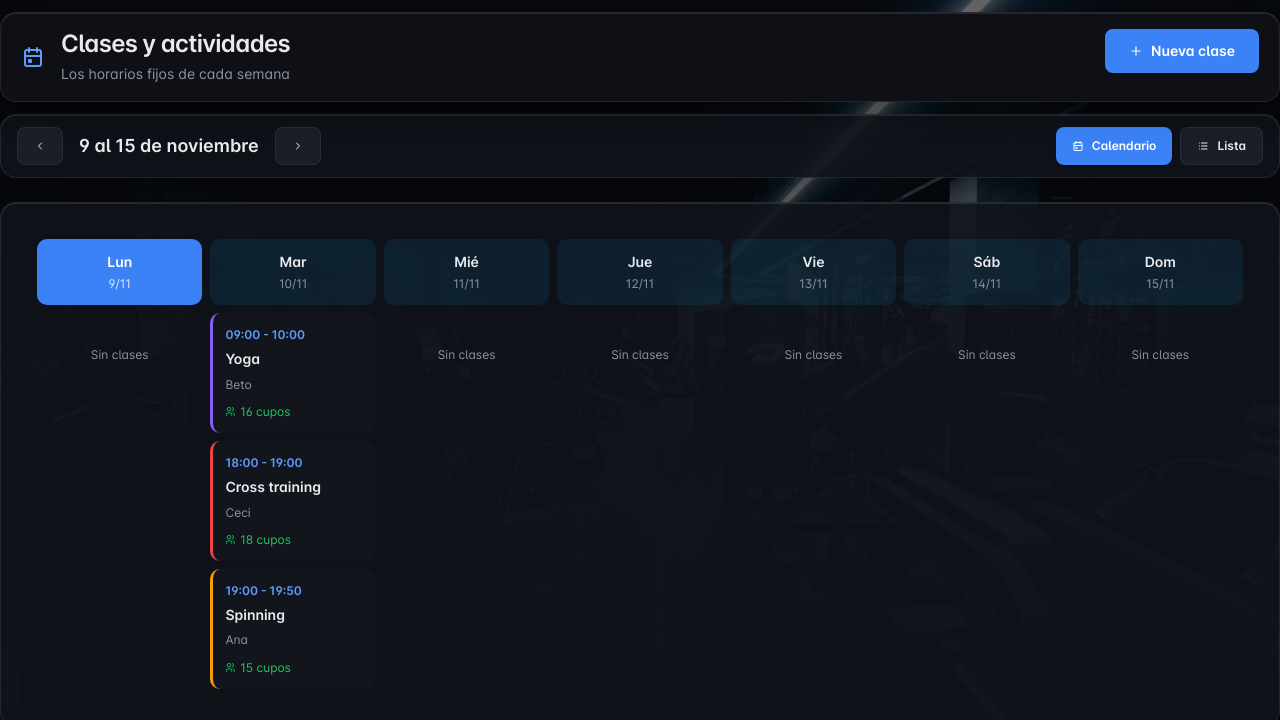
Test: Clases › cada clase del calendario es un botón: se abre también con el teclado
This screenshot has width=1280, height=720.
Click the button with class "class-card" that starts with "Yoga" at point(293, 373), box [210,313,376,433]
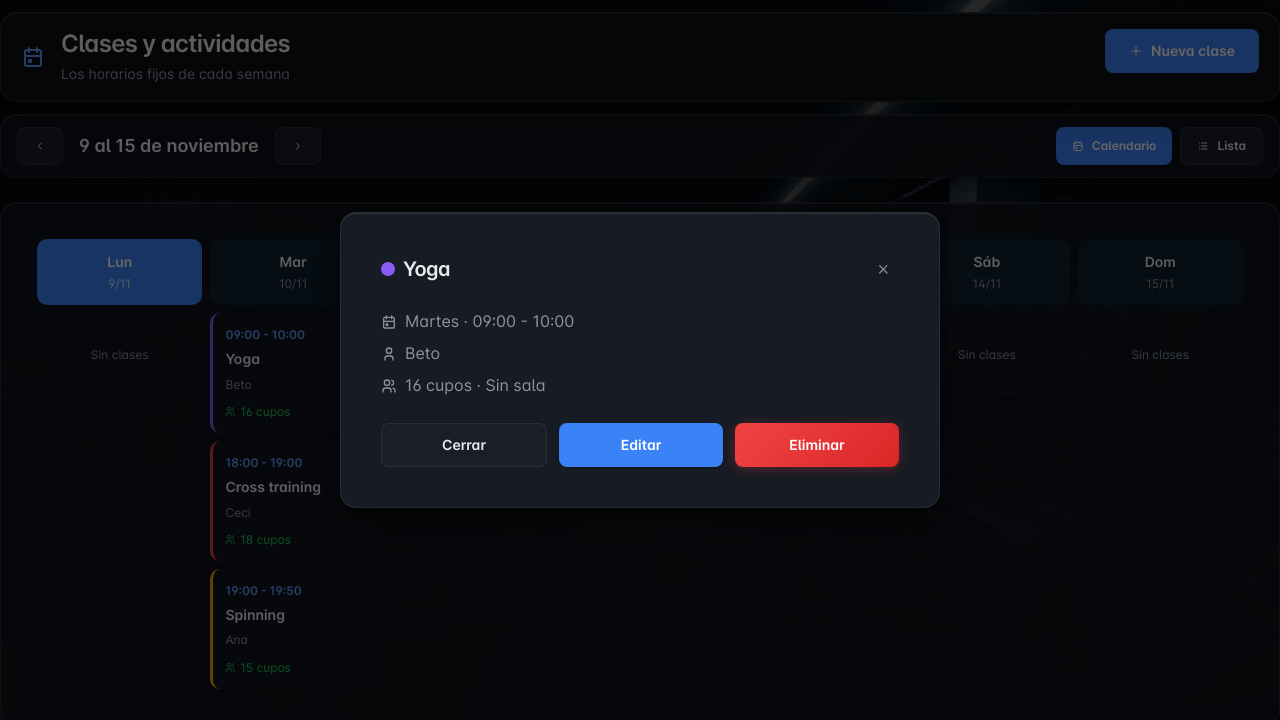
Expected: the text "Martes · 09:00 - 10:00" is shown, [381,311,574,331]
